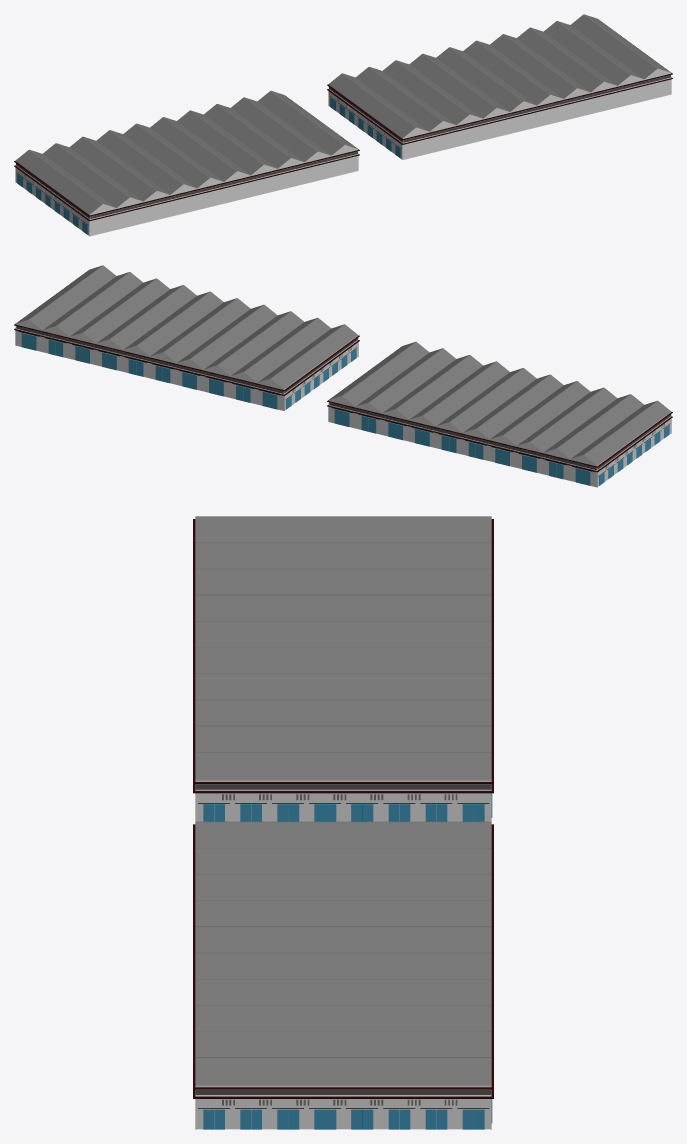
The model's file is 10changku.fbx.
3 views of the same model, one above another, from view 1: azimuth 30°, elevation 25°; view 2: azimuth 150°, elevation 25°; view 3: azimuth 270°, elevation 25° (orthographic). The views are drawn at different scales.
Parts seen in each view (by area): view 1: pCube67, pCube68; view 2: pCube67, pCube68; view 3: pCube67, pCube68.
Part boxes in pixels (x1,y1,x2,y2): pCube67: (327, 14, 672, 159); pCube68: (14, 90, 359, 236); pCube67: (14, 265, 359, 410); pCube68: (327, 341, 672, 487); pCube67: (193, 821, 493, 1129); pCube68: (193, 516, 493, 821).
Size of the model in its own units: 291 by 13.91 by 65.
